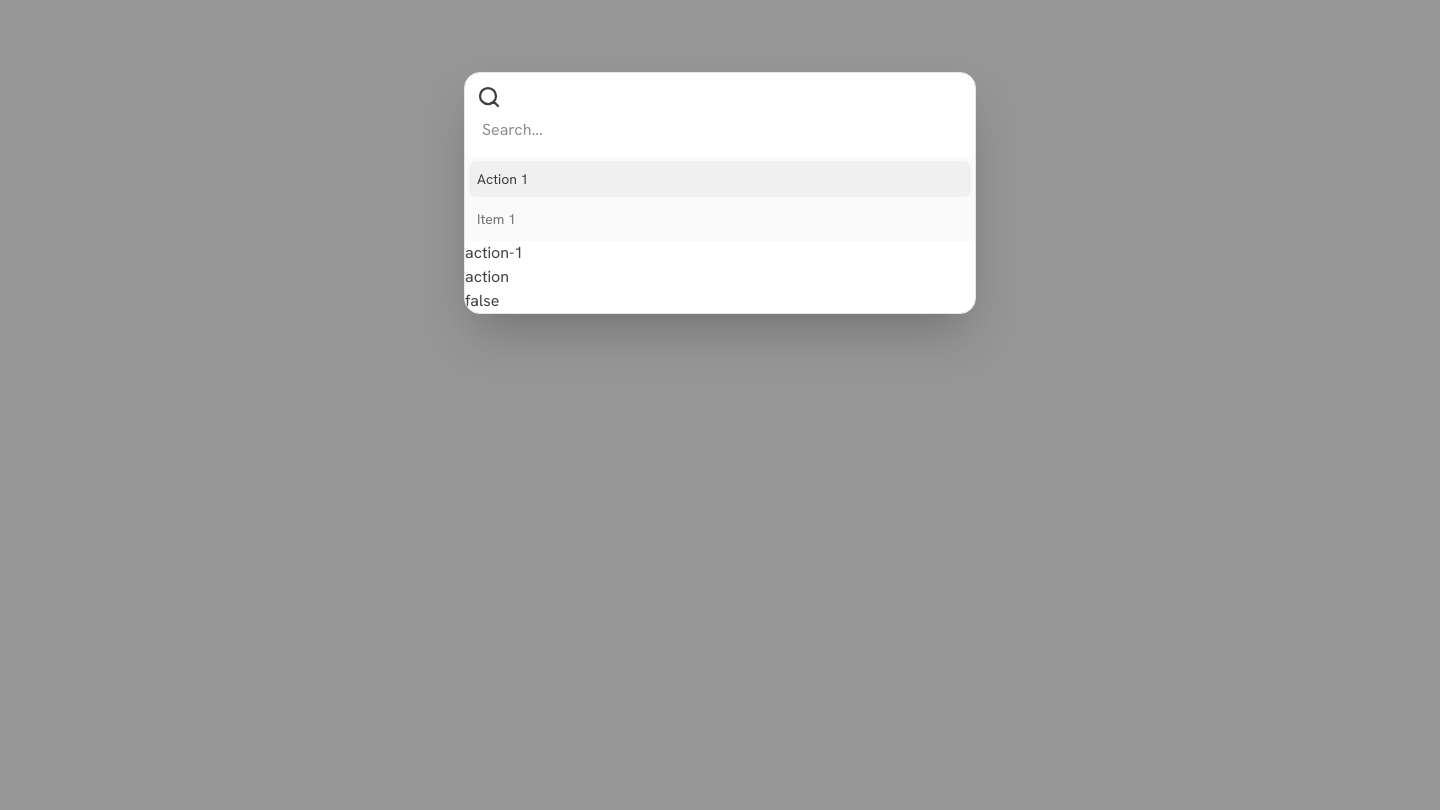
Test: CommandMenu › Mouse Interaction › Mouse hover highlights item
This screenshot has width=1440, height=810.
Hover over the button "Item 1" at (496, 219), box [477,210,516,228]
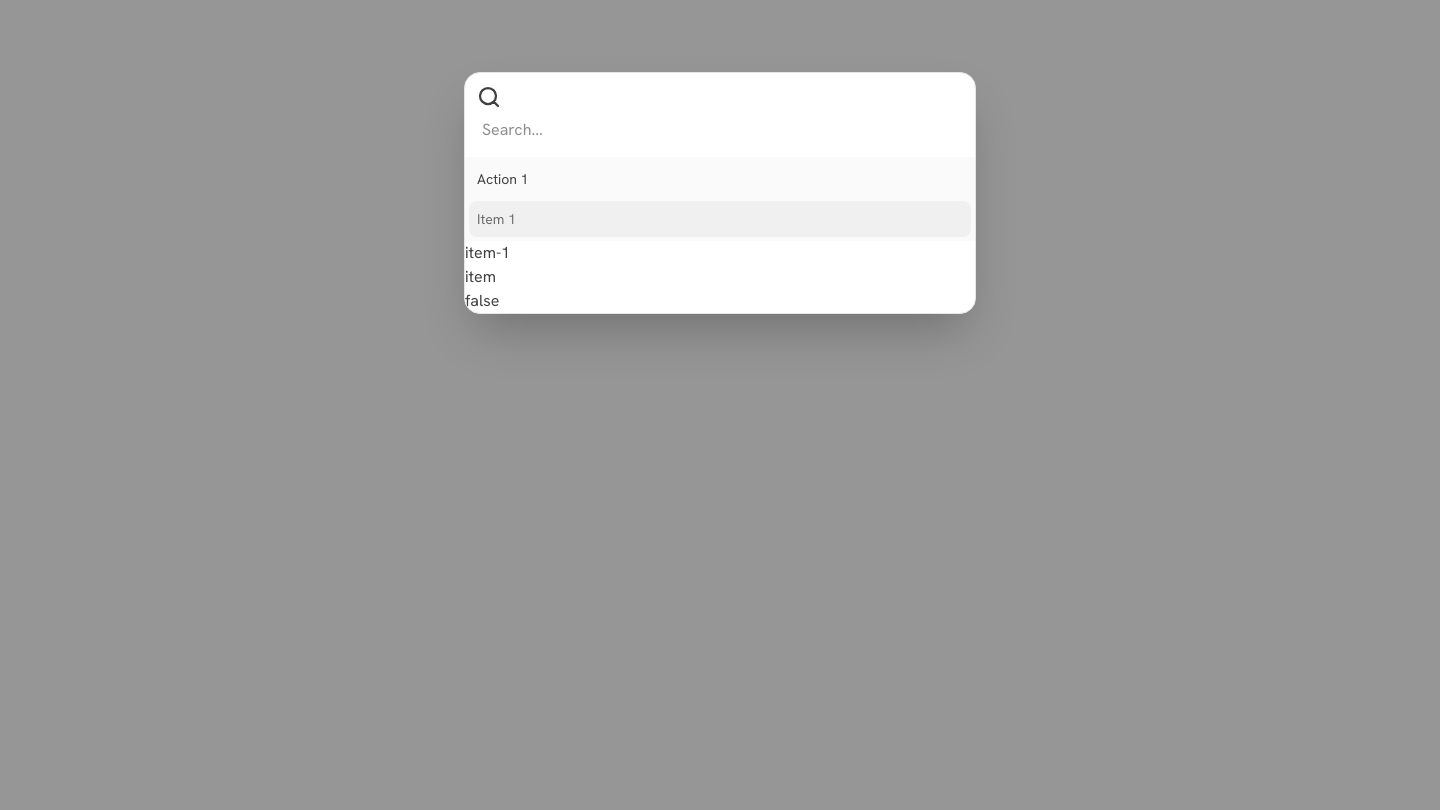
expect the text with test id "highlighted-value" reads "item-1": met, box [465,242,510,263]
